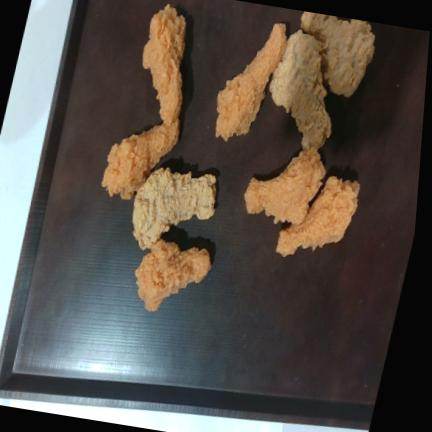chicken: (216, 24, 286, 141), (269, 30, 331, 150), (132, 168, 216, 249), (276, 177, 359, 256), (301, 11, 375, 97), (102, 119, 179, 199), (244, 148, 325, 224), (135, 239, 211, 311), (143, 4, 186, 124)
